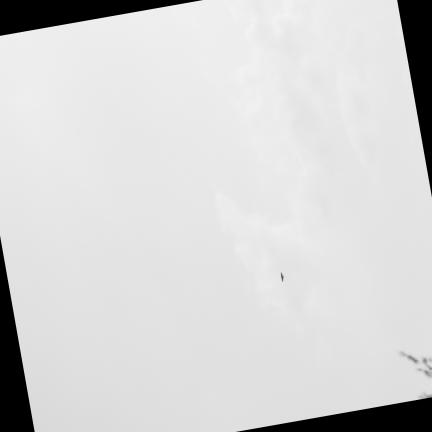Shahed: (280, 272, 283, 280)
